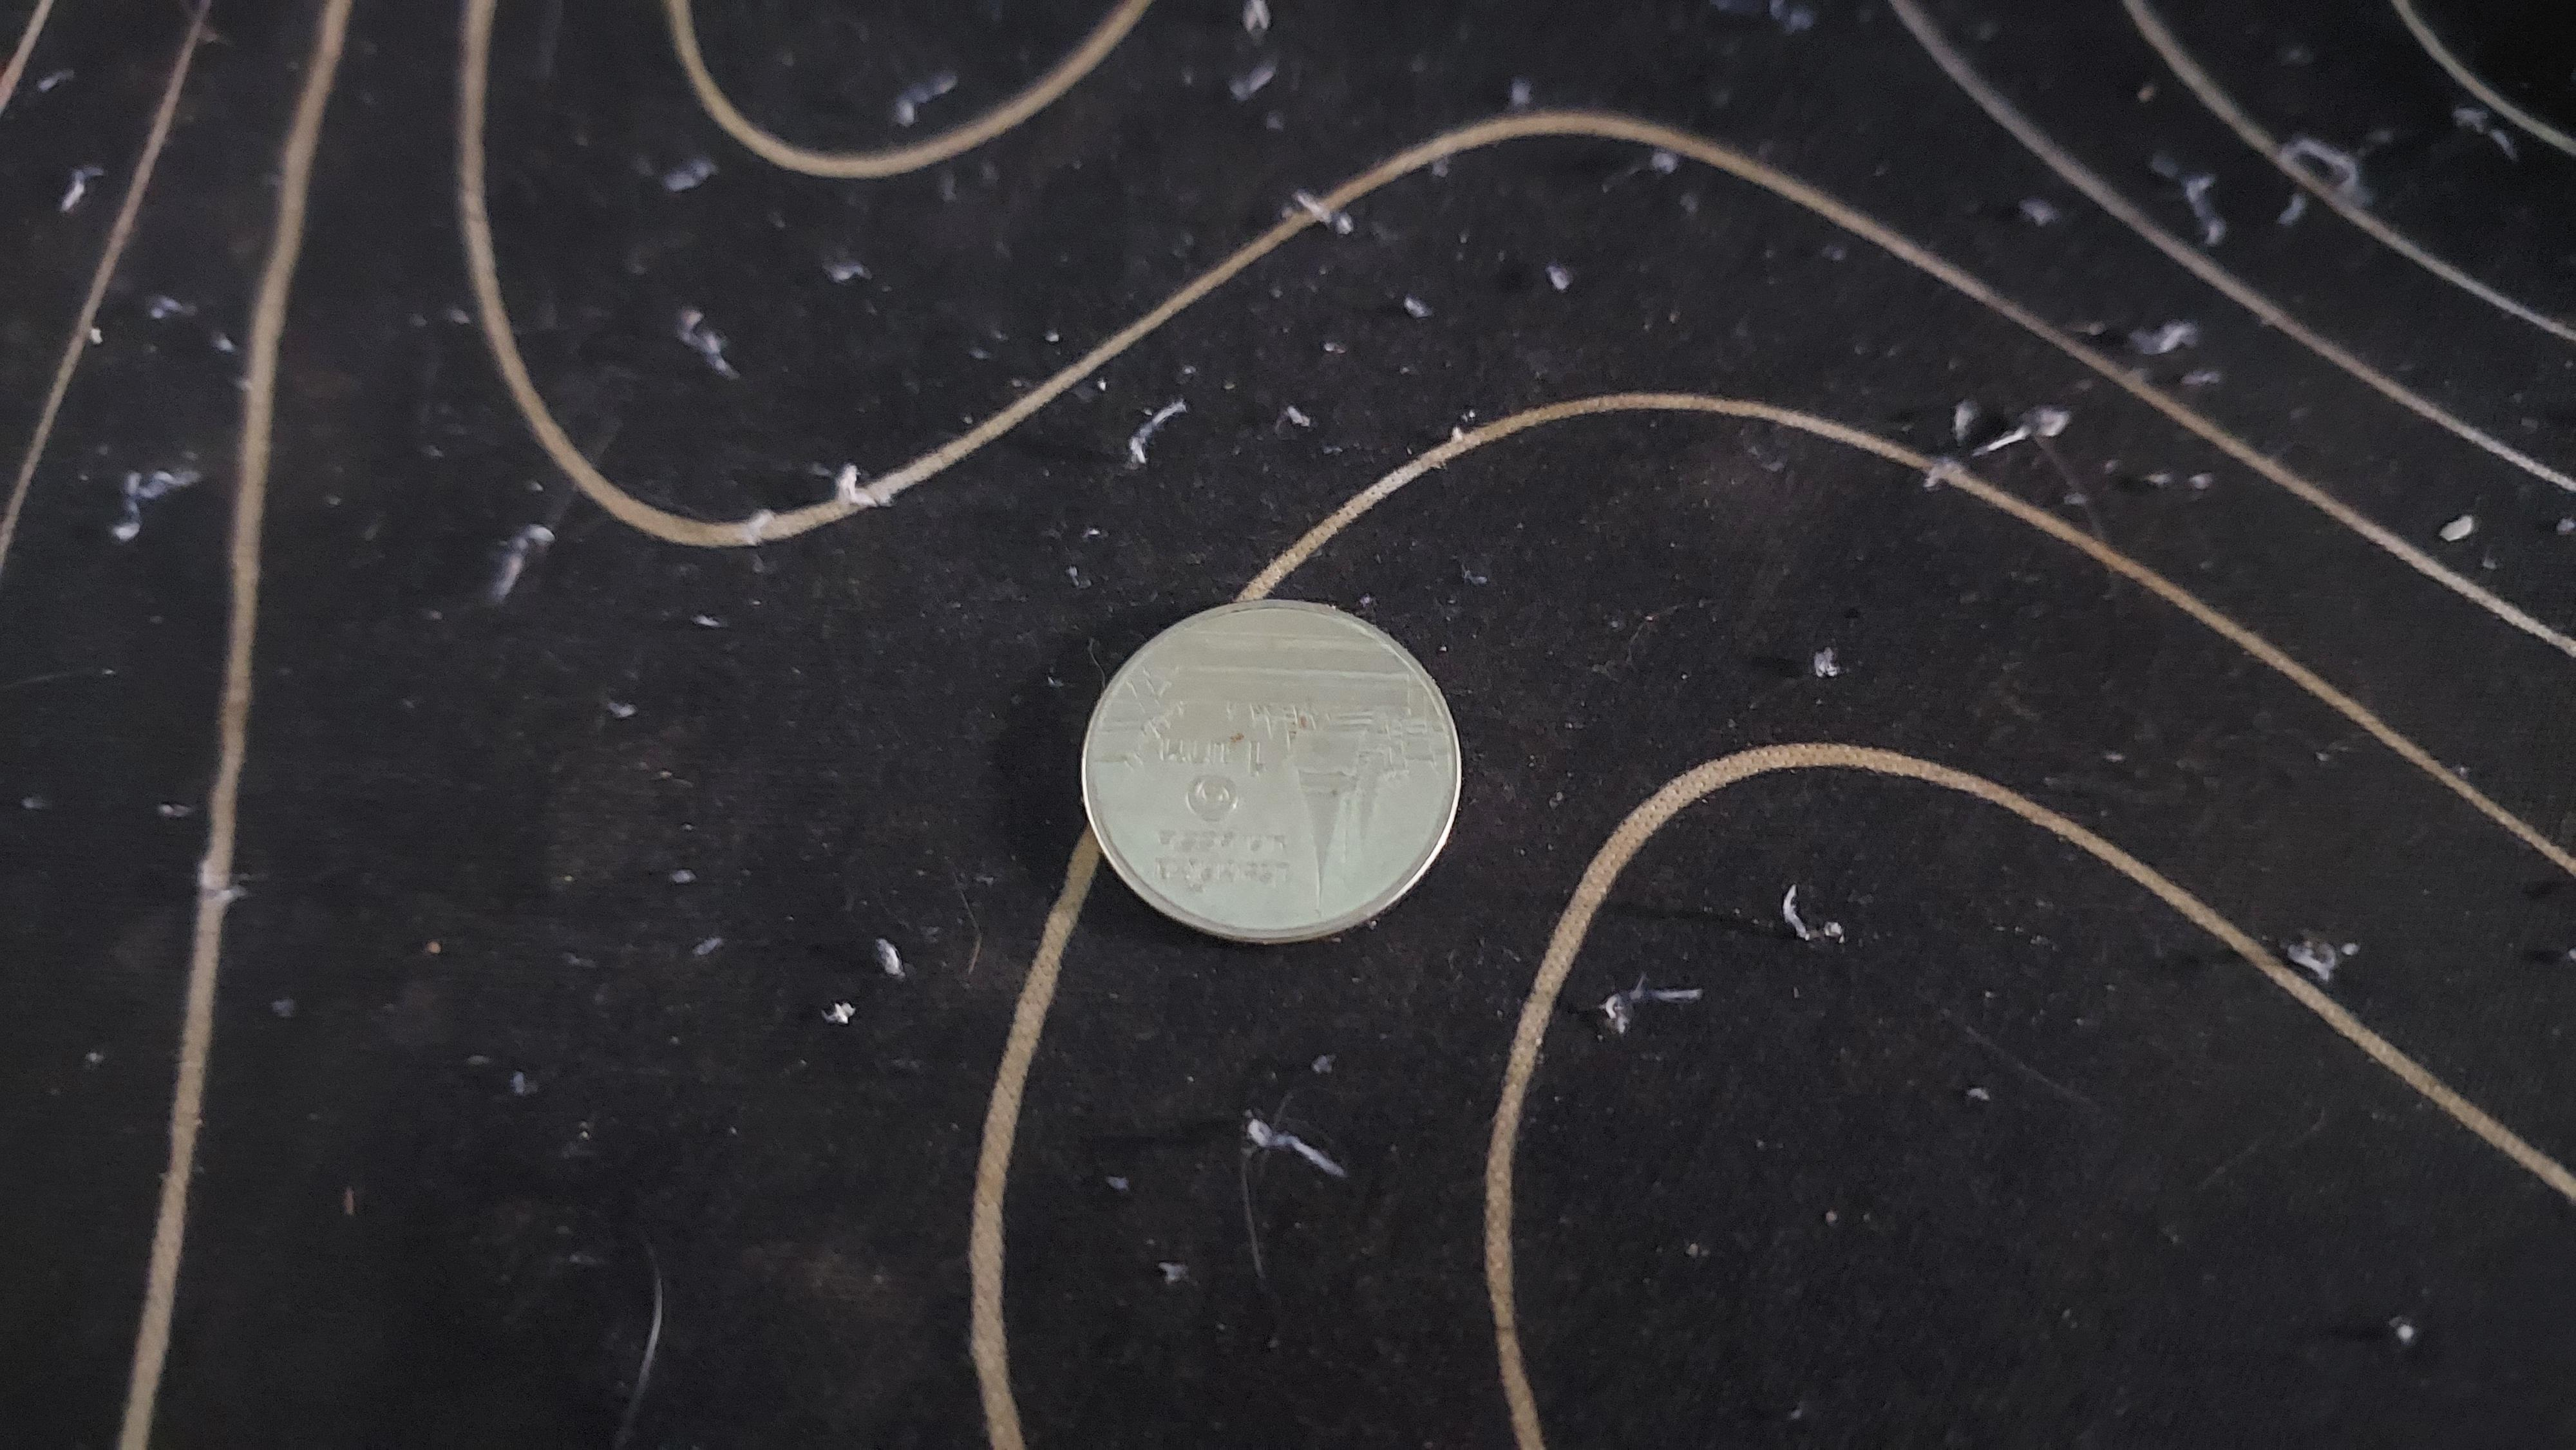1baht: (1056, 509, 1599, 971)
